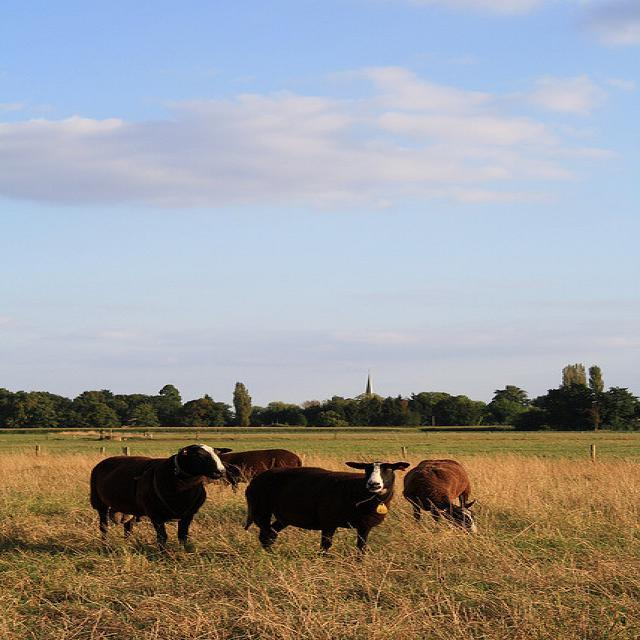cow: (78, 442, 238, 550), (242, 458, 408, 548), (401, 458, 476, 533)
